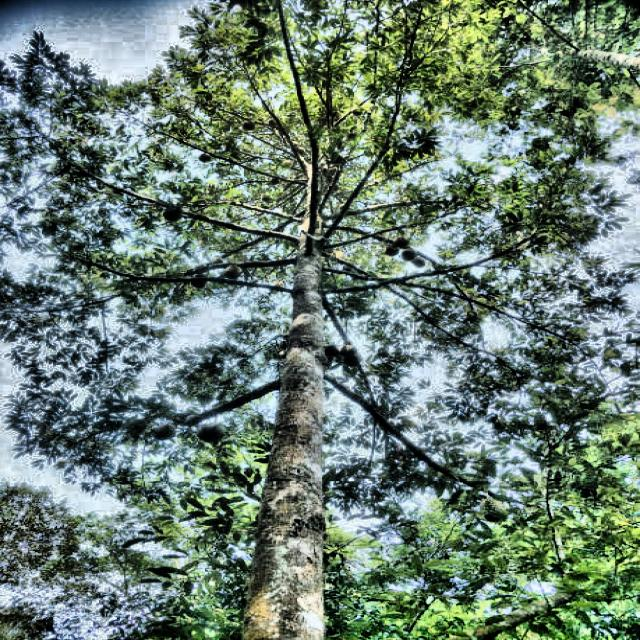arvore: (234, 182, 373, 640)
